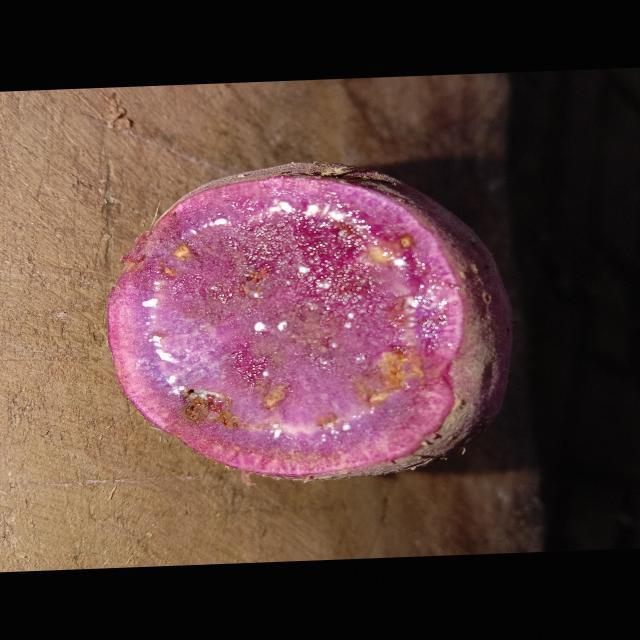Sick Sweet Potato_Tuber Rot: (108, 176, 463, 478)
